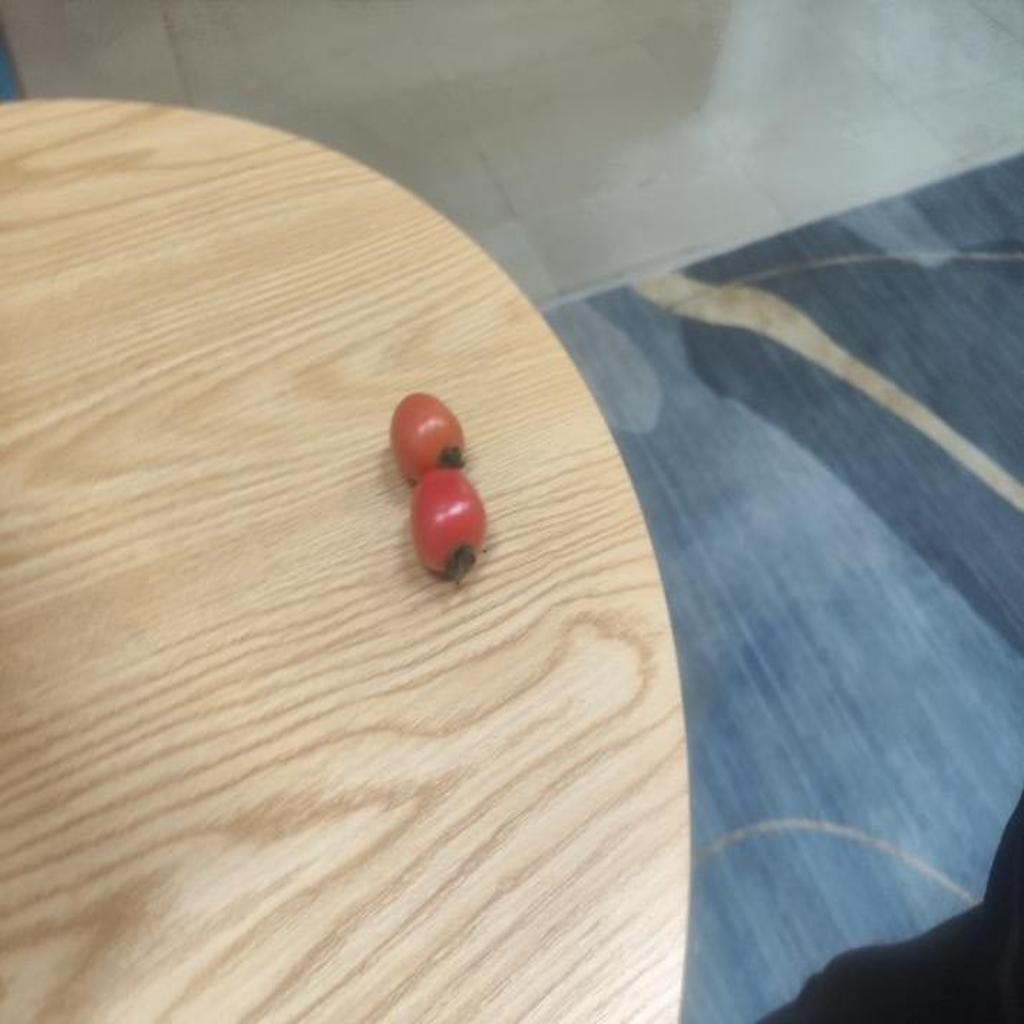tomato: (387, 474, 501, 580), (388, 391, 484, 486)
